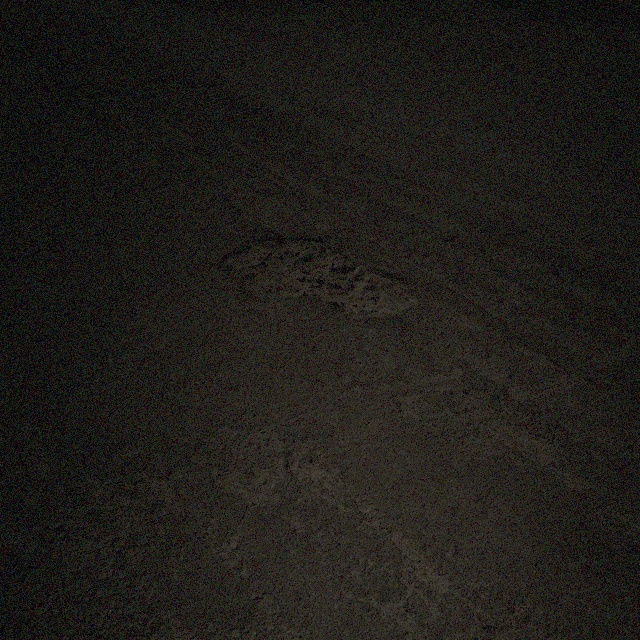pothole: (215, 232, 422, 317), (69, 84, 129, 122)
